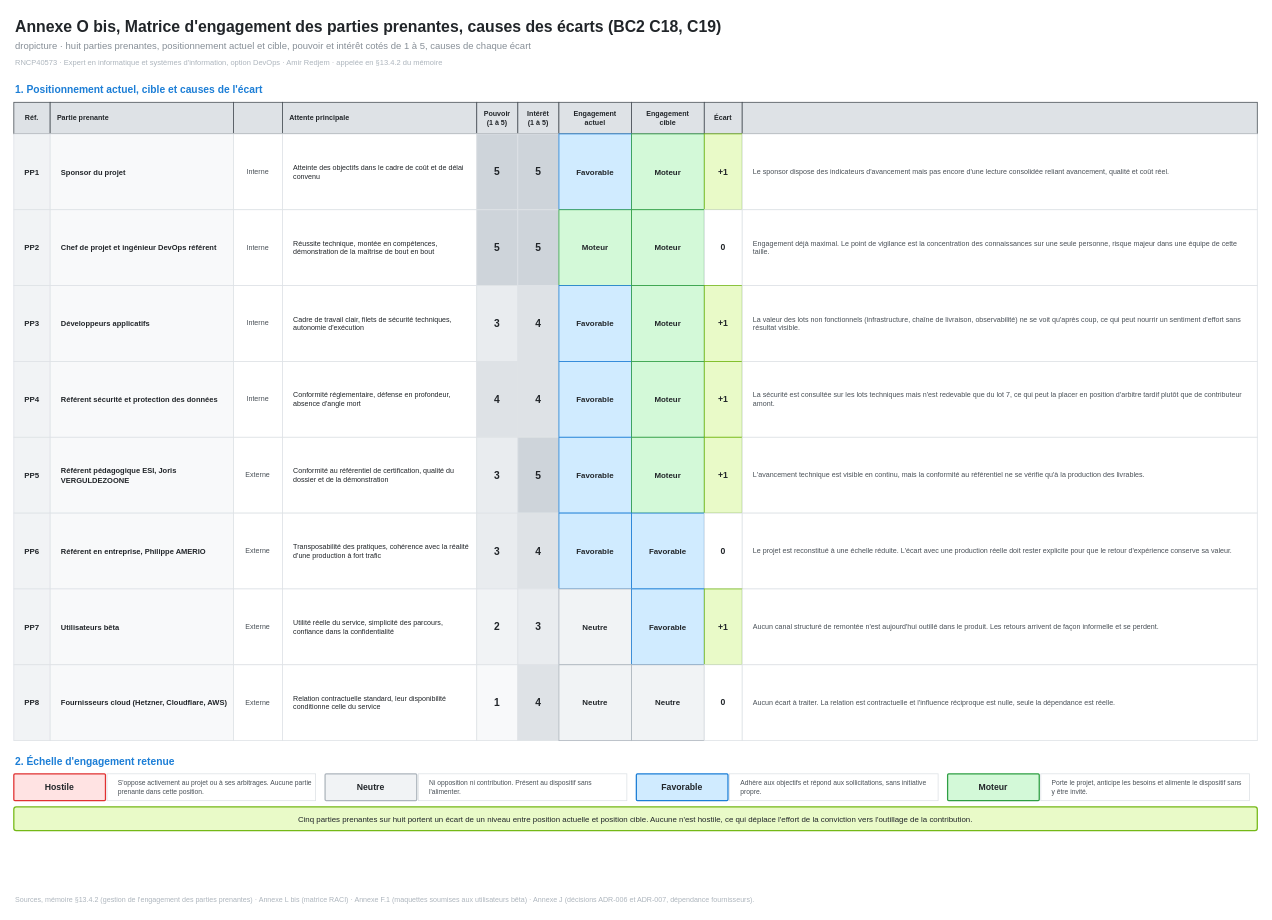
Some shapes in this 1272 by 920 pixel diagram are drawn without their labels. Here are the shapes that lost their labels. From the top down, the box of each, then its label:
(233, 102, 282, 134): Type
(741, 102, 1257, 134): Causes de l'écart constaté
